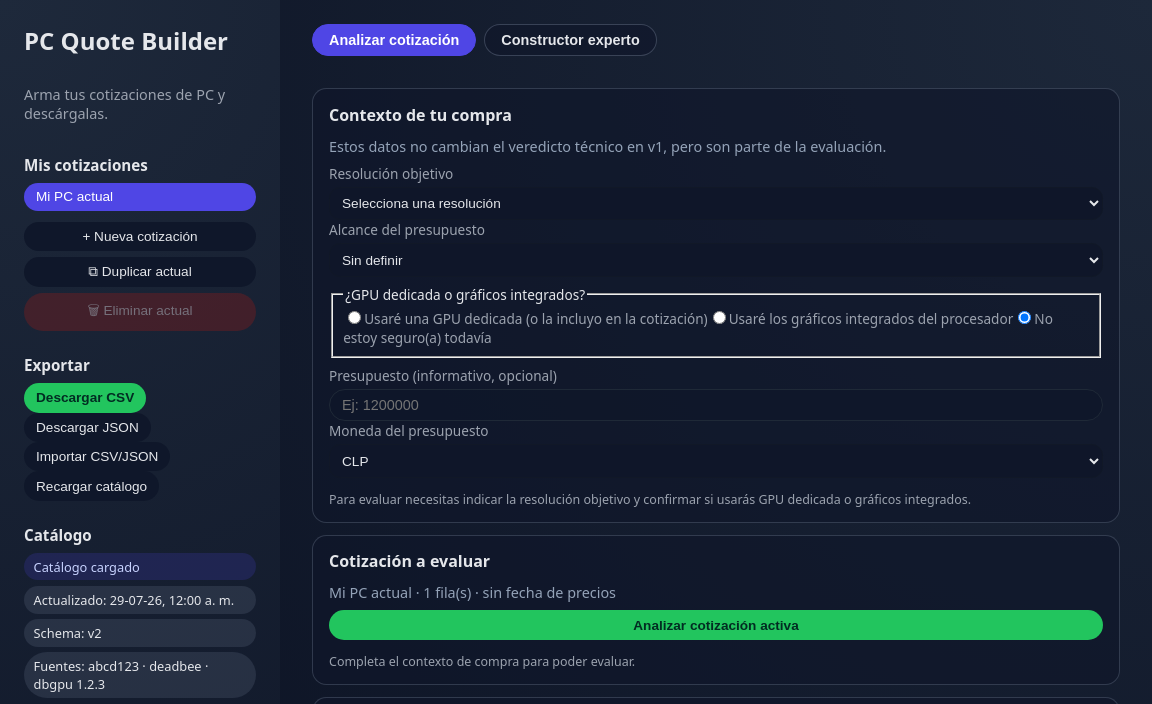
Test: Builder assessment and compatibility display › shows builder summary metrics when builder state has selections
Click the button "Constructor experto". click: (571, 40)
box: [484, 24, 657, 56]
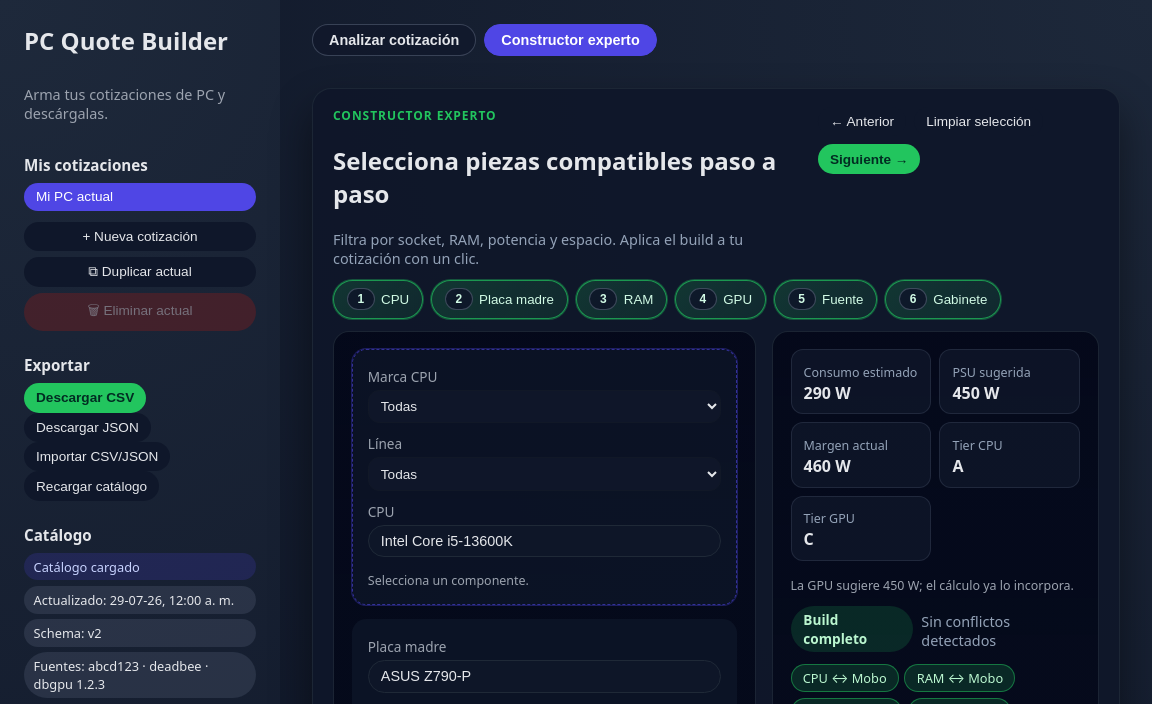
Check: the text "Consumo estimado" is shown, box [804, 364, 917, 381]
Check: the text "PSU sugerida" is shown, box [952, 364, 1031, 381]
Check: the text "Margen actual" is shown, box [804, 437, 888, 454]
